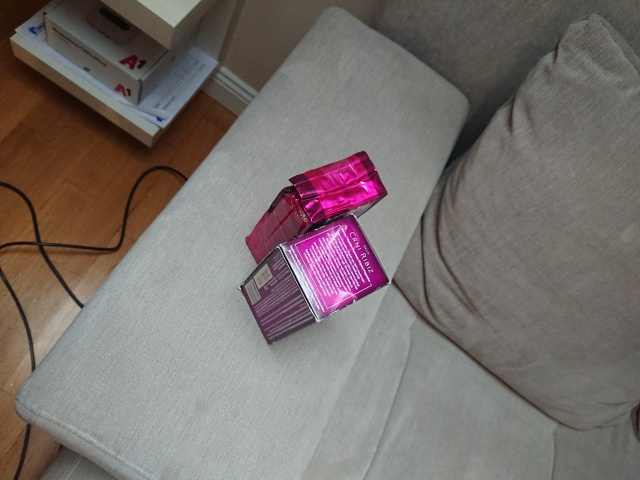Barcaffe Classic Original 225g: (243, 148, 391, 274)
Franck Black Currant Tea 60g: (235, 211, 393, 348)
